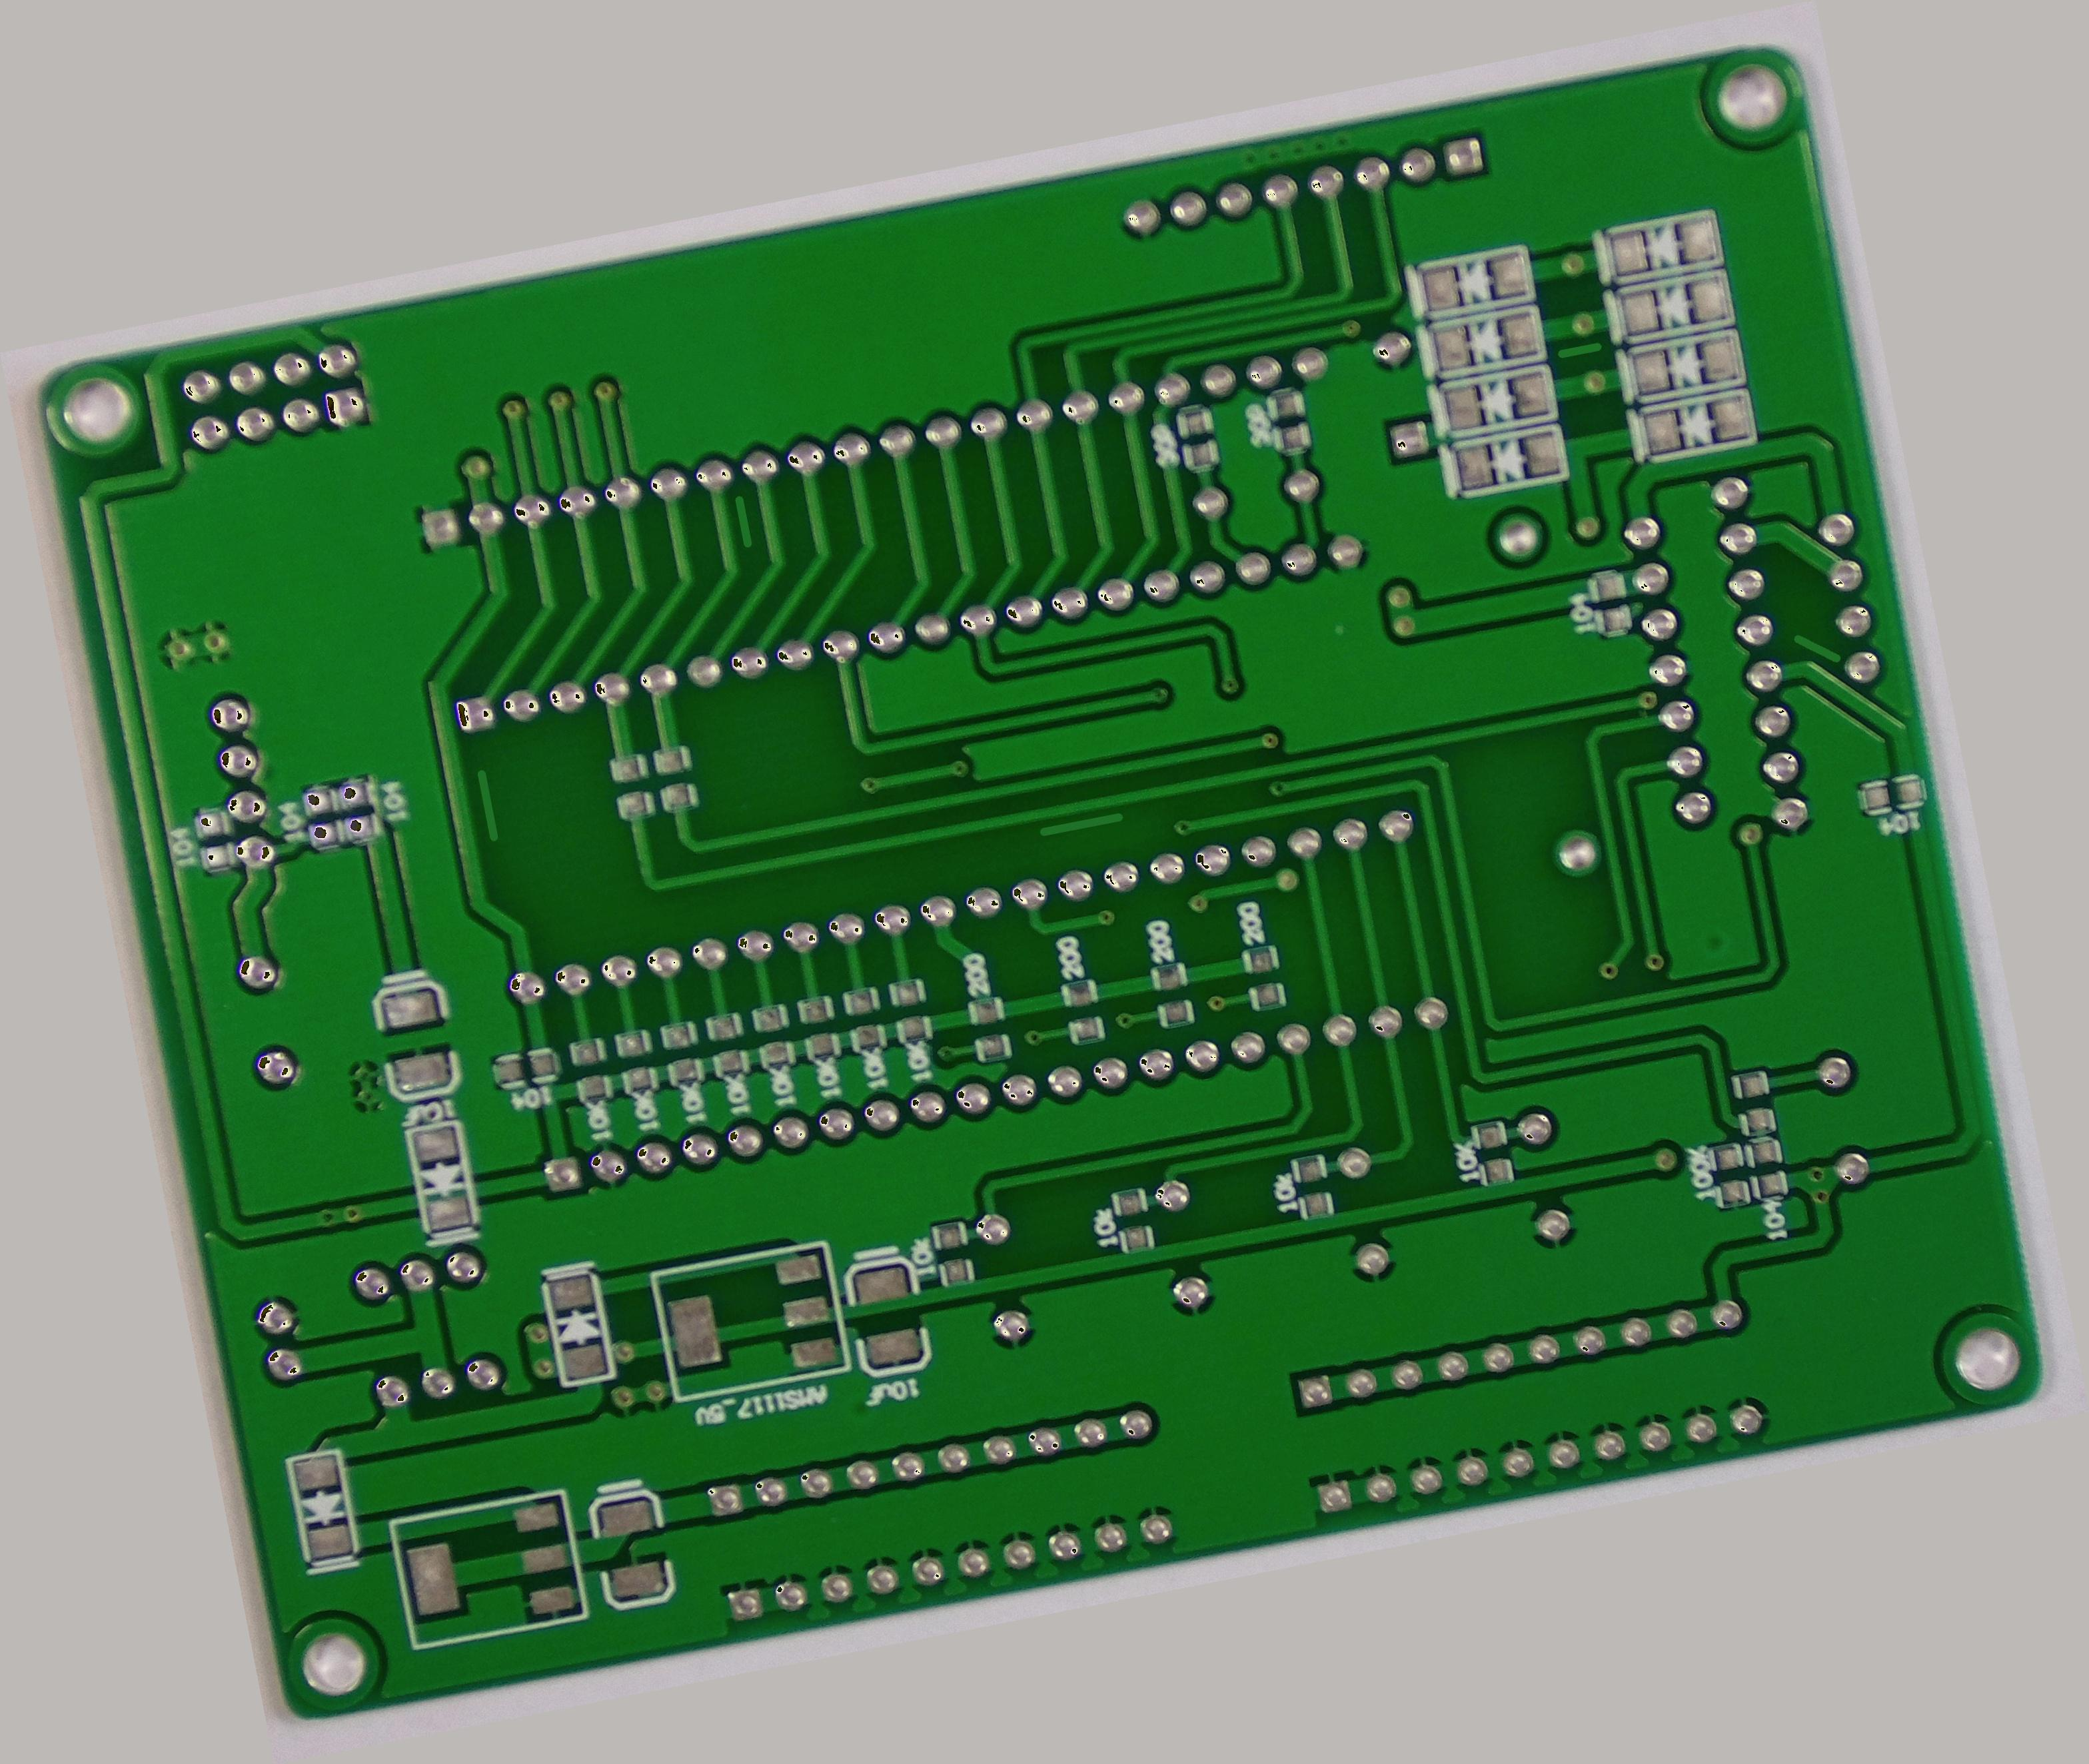spurious_copper: (1028, 796, 1131, 850), (459, 758, 515, 852), (1779, 618, 1844, 679), (1544, 325, 1616, 371), (718, 486, 765, 555)
